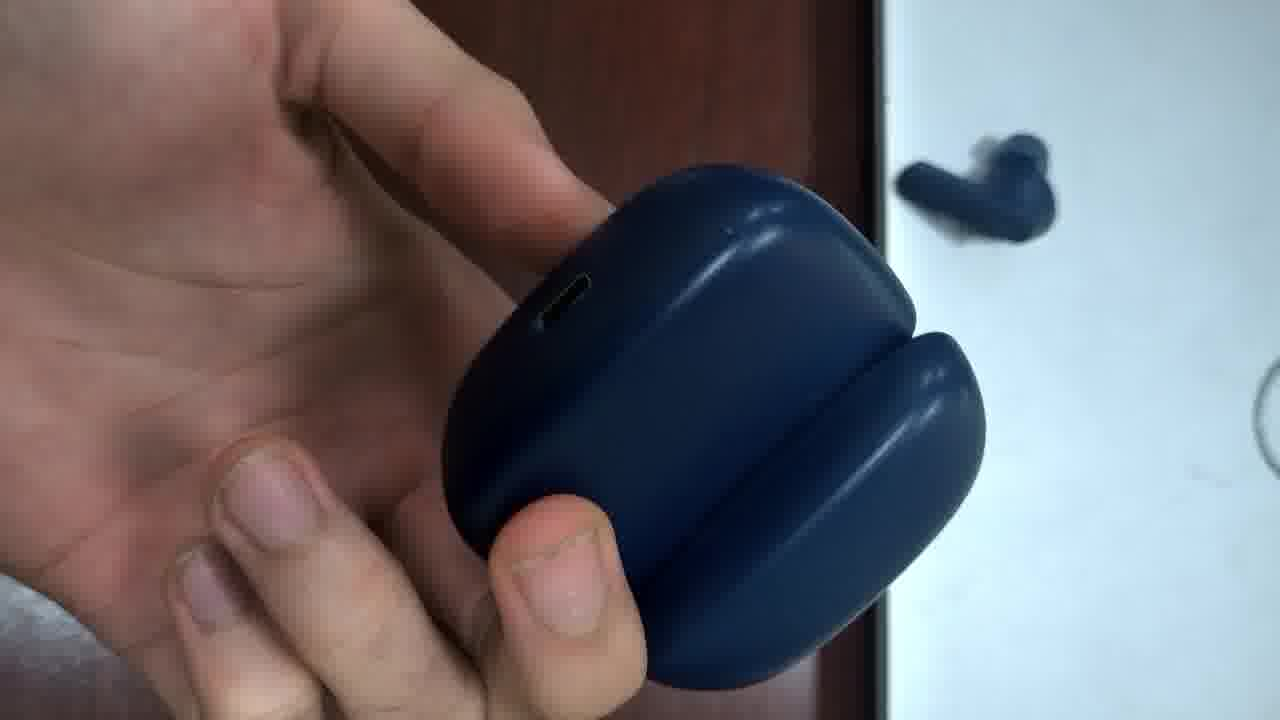Case: (429, 155, 996, 693)
Earbud: (896, 133, 1055, 241)
